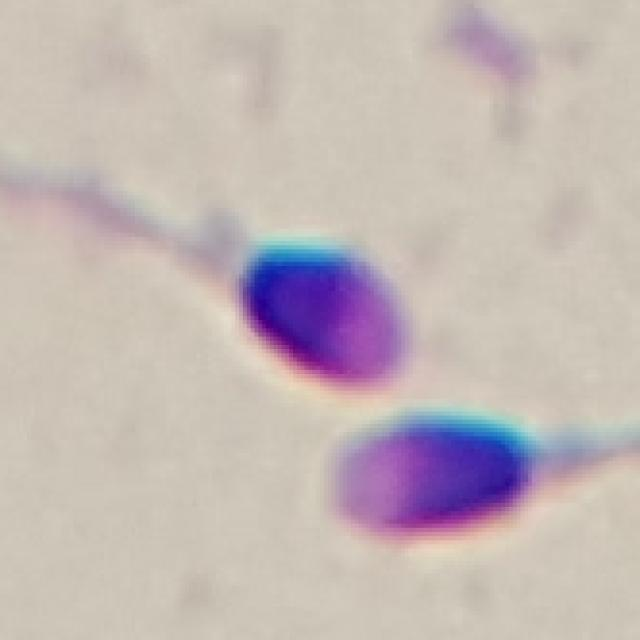normal sperm: (149, 220, 412, 392), (328, 411, 606, 542)
